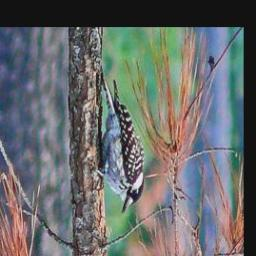Woodpecker: (84, 62, 152, 222)
